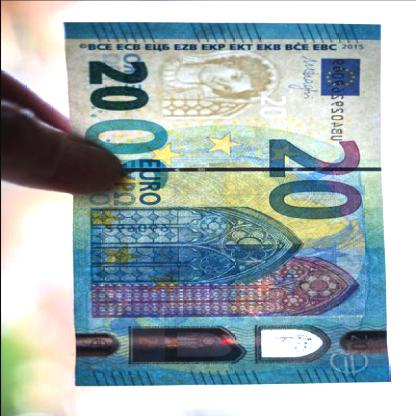euro_banknote: (44, 44, 413, 361)
